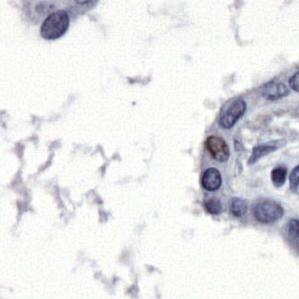Lymphocyte: (206, 135, 230, 162)
